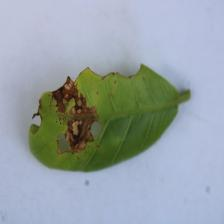leaf miner: (27, 62, 191, 173)
